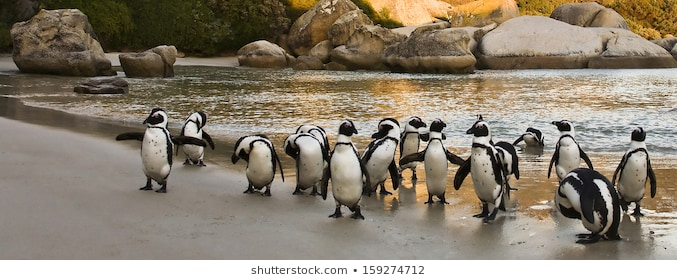penguin: (99, 100, 205, 204), (448, 103, 519, 237), (542, 164, 637, 245), (606, 113, 664, 241), (319, 110, 375, 232), (401, 115, 467, 218), (219, 127, 291, 215), (358, 101, 402, 220), (175, 102, 229, 194), (536, 110, 597, 179), (280, 129, 329, 205), (398, 112, 426, 186), (509, 119, 549, 160)
